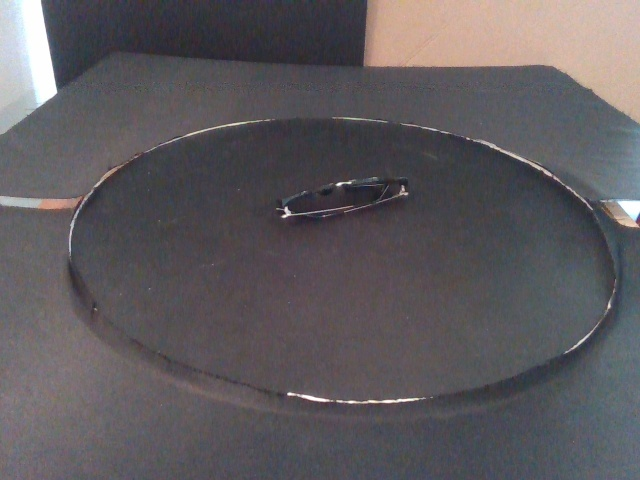glasses: (274, 175, 410, 220)
